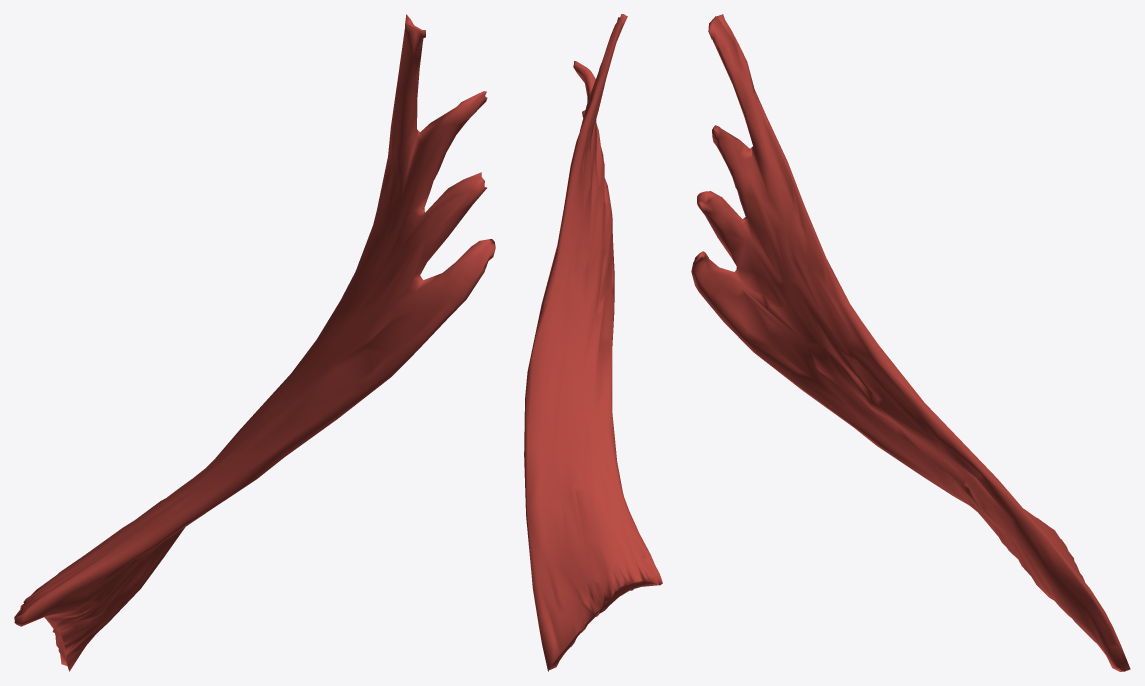
File: musculos-levator-scapulae-r.glb
3 renders of one model, left to right at view 1: azimuth 30°, elevation 25°; view 2: azimuth 150°, elevation 25°; view 3: azimuth 270°, elevation 25°, orthographic. The views are drawn at different scales.
Parts seen in each view (by area): view 1: Levator scapulae.r; view 2: Levator scapulae.r; view 3: Levator scapulae.r.
Boxes of the visible parts, x1,y1,x2,y2 form: Levator scapulae.r: (14, 14, 495, 671); Levator scapulae.r: (524, 14, 662, 671); Levator scapulae.r: (691, 14, 1130, 671).
Bounding box in the file's own units: 0.0614 × 0.1528 × 0.0859.
